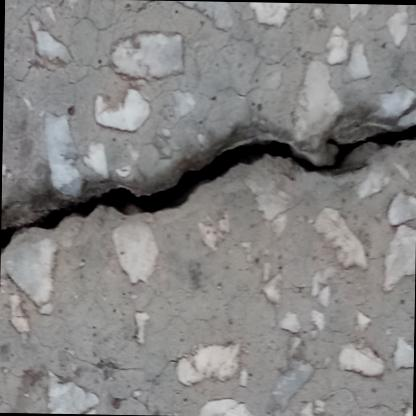crack: (0, 122, 416, 251)
